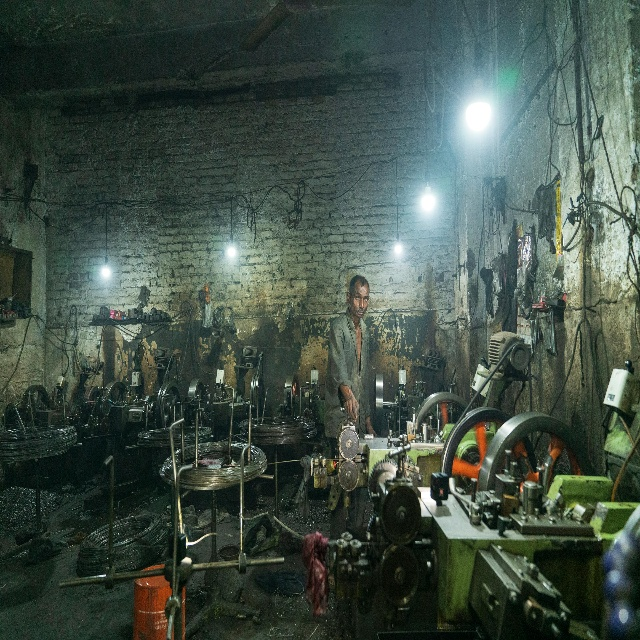Sin_guantes: (343, 397, 360, 422), (365, 423, 377, 437)
